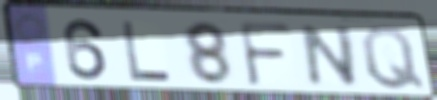6: (60, 16, 110, 83)
8: (179, 20, 237, 87)
F: (236, 19, 295, 89)
L: (118, 20, 174, 84)
N: (300, 23, 361, 88)
Q: (358, 24, 428, 92)
